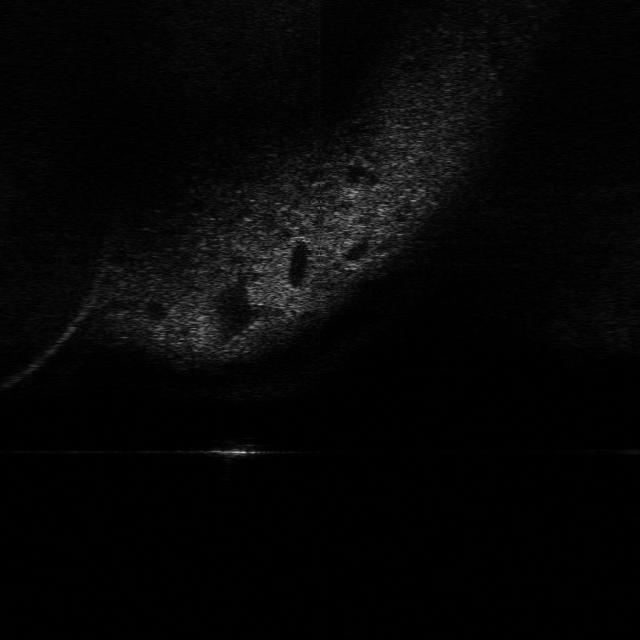ball: (281, 290, 317, 322)
cube: (202, 434, 264, 464)
